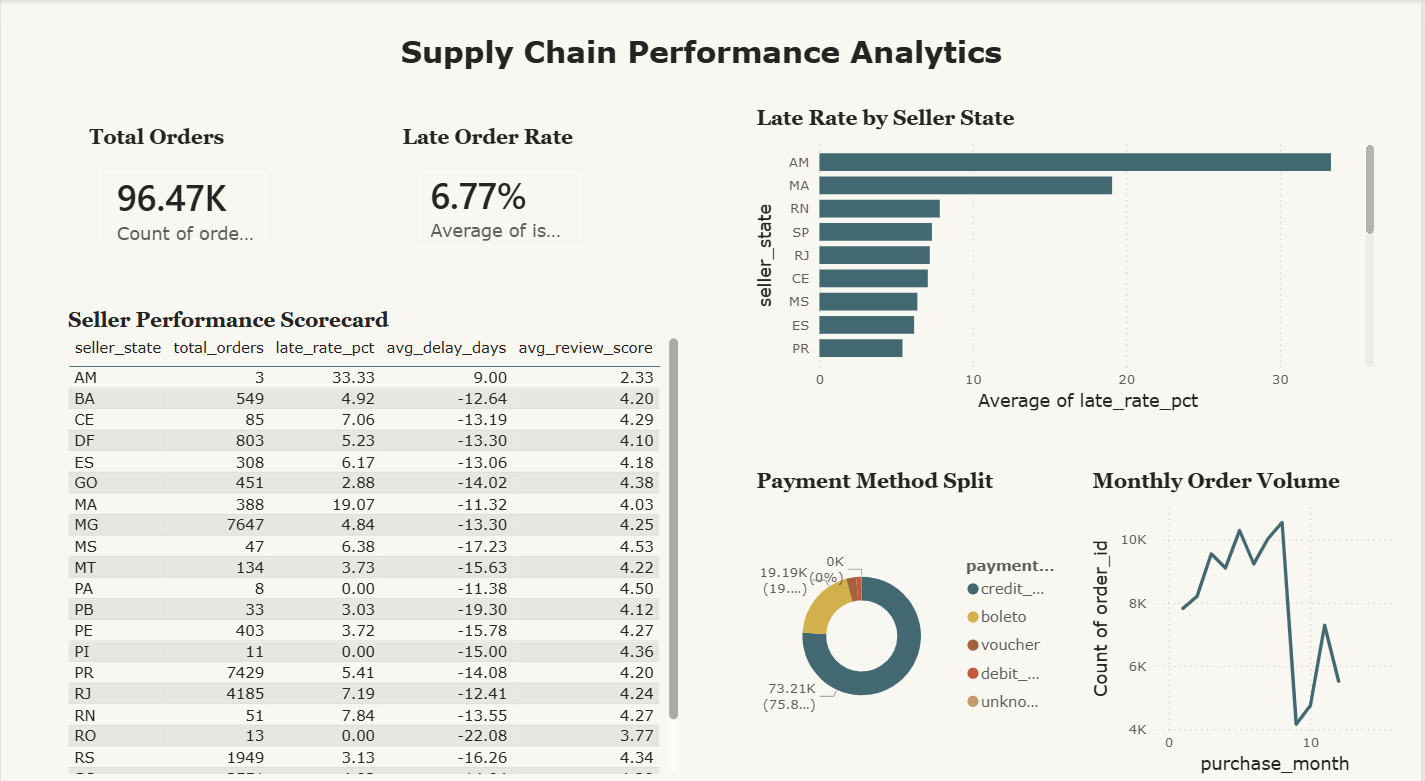

The page's visual inventory and layout, read from the dashboard file:
{"tool":"powerbi","page":{"name":"Supply Chain Overview","canvas":[1280,720],"ordinal":0},"visuals":[{"type":"cardVisual","title":"Late Order Rate","fields":{"Data":["Avg(orders_master.is_late)"]},"box":[357.5,113.8,185,122.5],"z":1},{"type":"clusteredBarChart","title":"Late Rate by Seller State","fields":{"Category":["seller_performance.seller_state"],"Y":["Avg(seller_performance.late_rate_pct)"]},"box":[675.9,96,566.4,279.8],"z":2},{"type":"lineChart","title":"Monthly Order Volume","fields":{"Category":["orders_master.purchase_month"],"Y":["CountNonNull(orders_master.order_id)"]},"box":[978.6,423.1,279.8,279.8],"z":3},{"type":"tableEx","title":"Seller Performance Scorecard","fields":{"Values":["seller_performance.seller_state","seller_performance.total_orders","seller_performance.late_rate_pct","seller_performance.avg_delay_days","seller_performance.avg_review_score"]},"box":[56,278,560,424],"z":4},{"type":"donutChart","title":"Payment Method Split","fields":{"Category":["orders_master.payment_type"],"Y":["CountNonNull(orders_master.order_id)"]},"box":[675.9,423.1,279.8,279.8],"z":5},{"type":"cardVisual","title":"Total Orders","fields":{"Data":["CountNonNull(orders_master.order_id)"]},"box":[75,113.8,185,126.2],"z":6},{"type":"textbox","box":[100,26,1062,48],"z":7}]}

Visuals, with their boxes in screenshot pixels (x1, y1, x2, y2), scaled from the page's 1280x720 canvas onto the 1425x781 screenshot:
"Late Order Rate" cardVisual: Rect(398, 123, 604, 256)
"Late Rate by Seller State" clusteredBarChart: Rect(752, 104, 1383, 408)
"Monthly Order Volume" lineChart: Rect(1089, 459, 1401, 762)
"Seller Performance Scorecard" tableEx: Rect(62, 302, 686, 761)
"Payment Method Split" donutChart: Rect(752, 459, 1064, 762)
"Total Orders" cardVisual: Rect(83, 123, 289, 260)
textbox: Rect(111, 28, 1294, 80)
